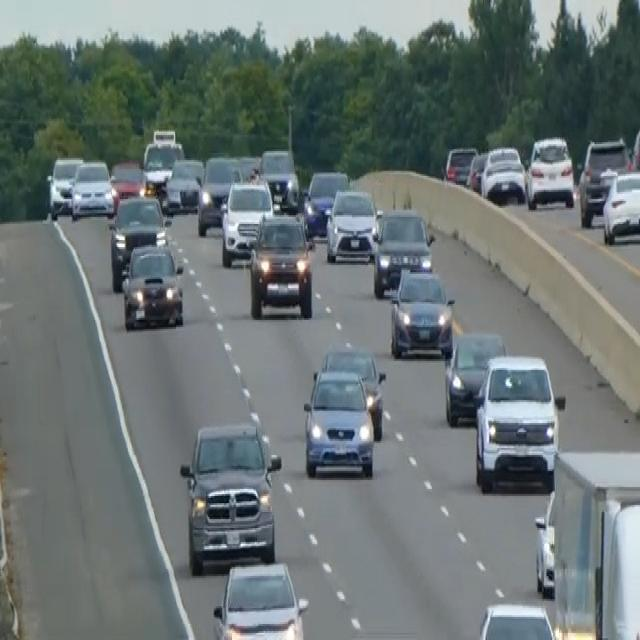car: (473, 352, 563, 491), (302, 364, 375, 478), (211, 558, 308, 638), (248, 212, 314, 318), (319, 343, 386, 439), (389, 263, 455, 359), (443, 329, 505, 427), (108, 192, 169, 290), (120, 238, 184, 331), (370, 204, 434, 297), (220, 176, 273, 267), (578, 135, 629, 226), (325, 185, 378, 263), (525, 133, 574, 210), (196, 153, 242, 235), (474, 599, 559, 638), (303, 167, 349, 238), (601, 167, 639, 245), (141, 128, 184, 196), (258, 146, 300, 212), (70, 156, 114, 218), (480, 144, 525, 204), (533, 487, 556, 597), (164, 155, 204, 213), (47, 153, 82, 215), (109, 158, 145, 203), (443, 142, 477, 187), (465, 149, 487, 192), (631, 119, 639, 174)
jeep: (178, 418, 282, 572)
lorry: (550, 444, 639, 638)
